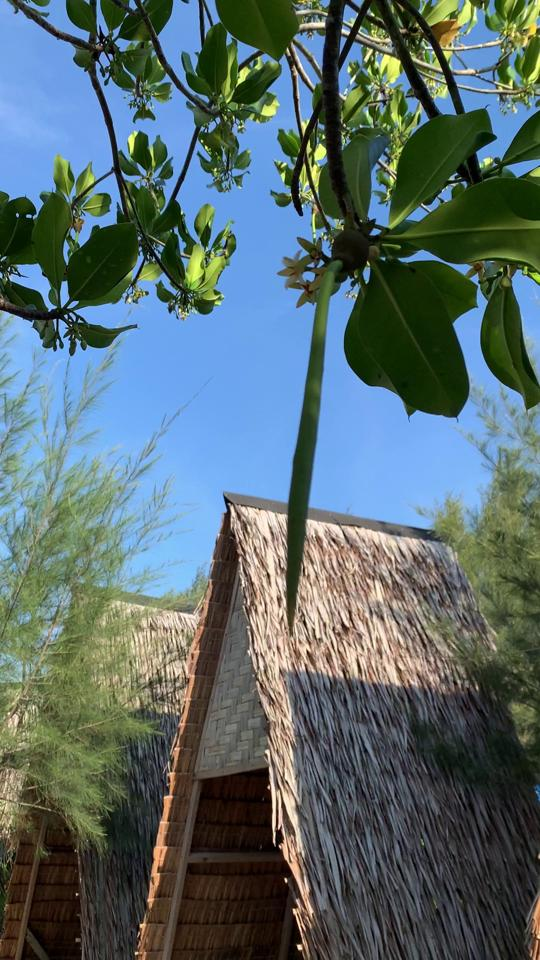mentah: (267, 218, 385, 643)
